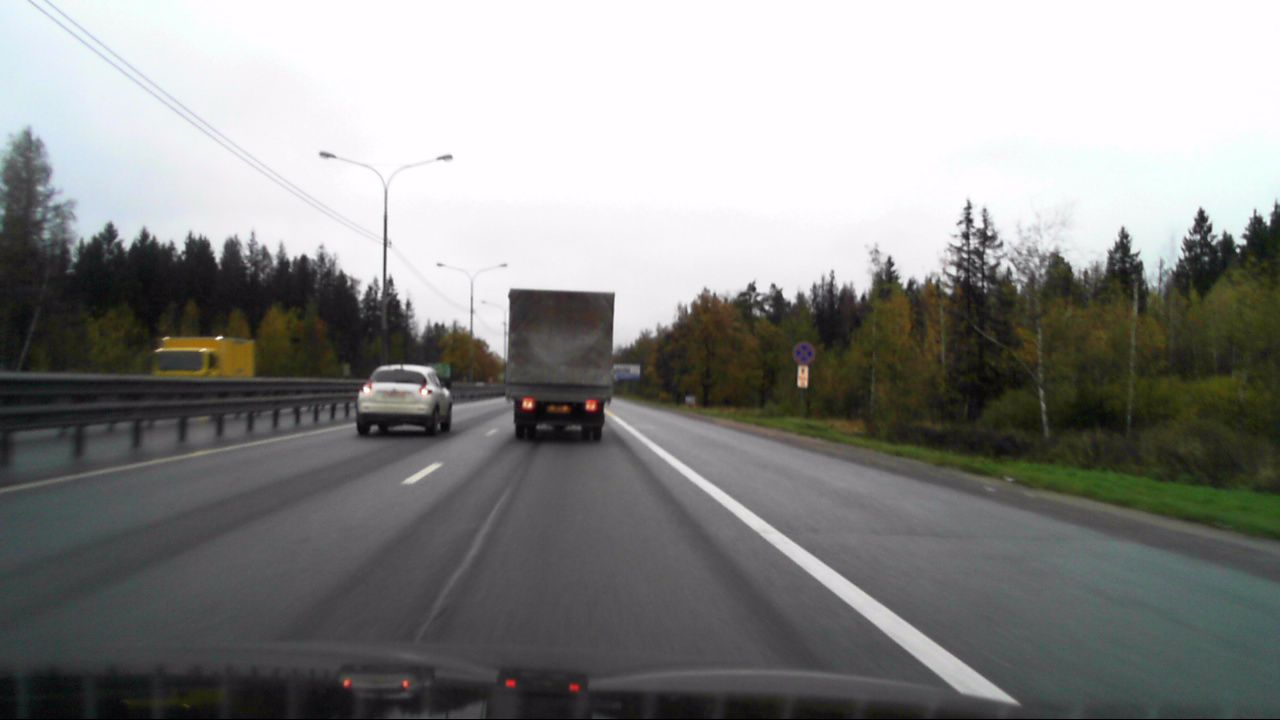No Parking: (791, 340, 815, 363)
